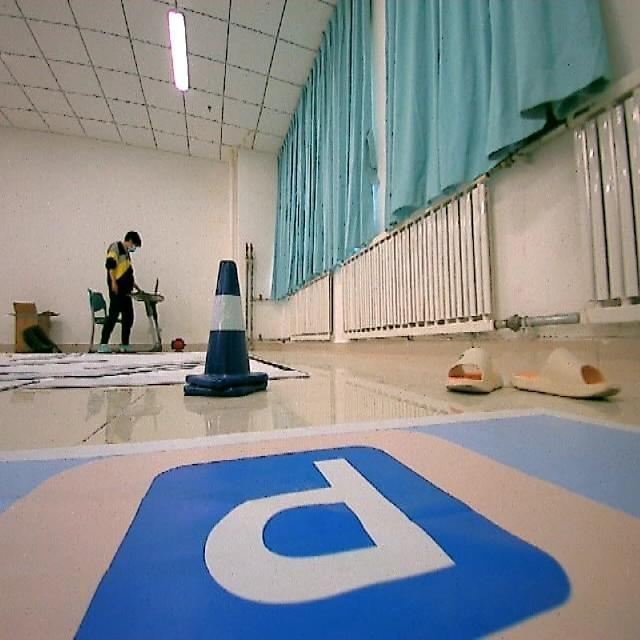obstacle: (176, 258, 273, 404)
